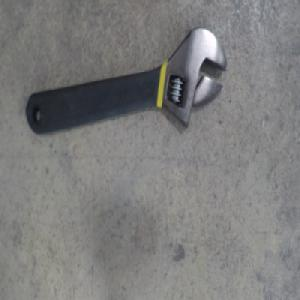AdjustableWrench: (24, 25, 226, 134)
